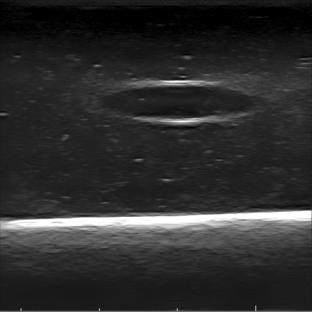vessel: (99, 78, 256, 126)
